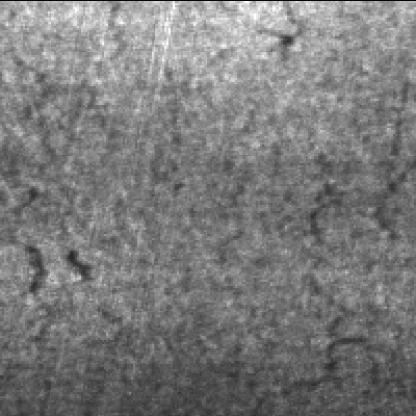crazing: (165, 46, 283, 412), (5, 38, 116, 320), (312, 79, 416, 341), (289, 308, 412, 414)
